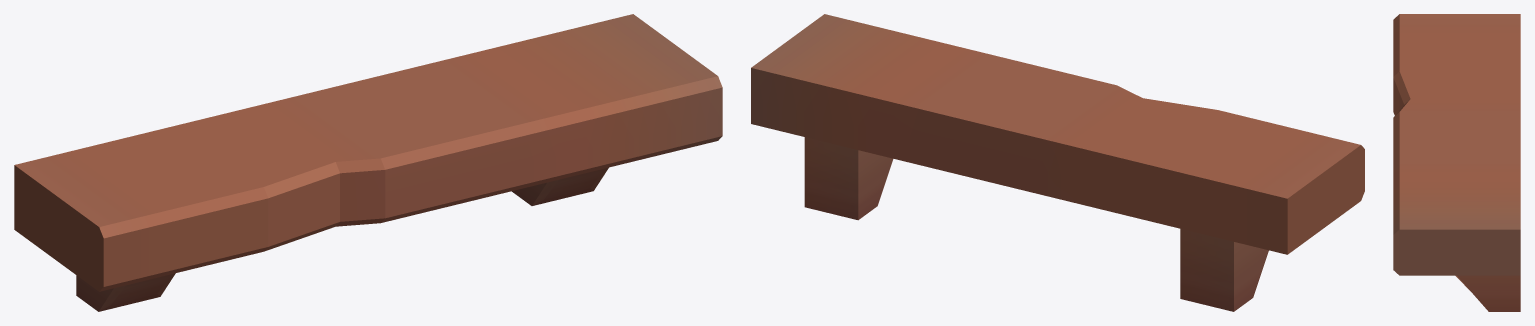
File: kay-prateleira-grande.gltf
3 renders of one model, left to right at view 1: azimuth 30°, elevation 25°; view 2: azimuth 150°, elevation 25°; view 3: azimuth 270°, elevation 25°, orthographic. The views are drawn at different scales.
Parts seen in each view (by area): view 1: shelf_large; view 2: shelf_large; view 3: shelf_large.
Part boxes in pixels (left/top/right/bottom): shelf_large: left=14, top=14, right=722, bottom=311; shelf_large: left=751, top=14, right=1364, bottom=311; shelf_large: left=1393, top=14, right=1520, bottom=311.
Size of the model in its own units: 1.3 by 0.2925 by 0.325.
1 material, 1 textured.
